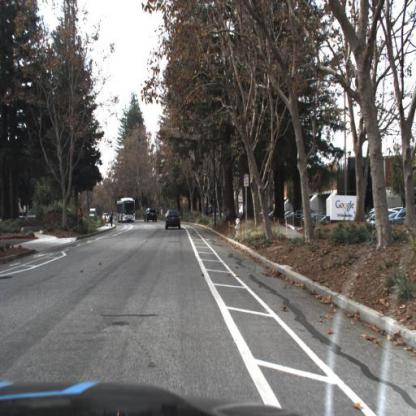car: (368, 209, 396, 225), (166, 210, 181, 230), (144, 208, 159, 224), (145, 209, 157, 224), (104, 213, 110, 221)
pedestrian: (78, 207, 85, 231), (79, 205, 84, 229), (110, 212, 115, 226)
truck: (116, 198, 136, 222)
